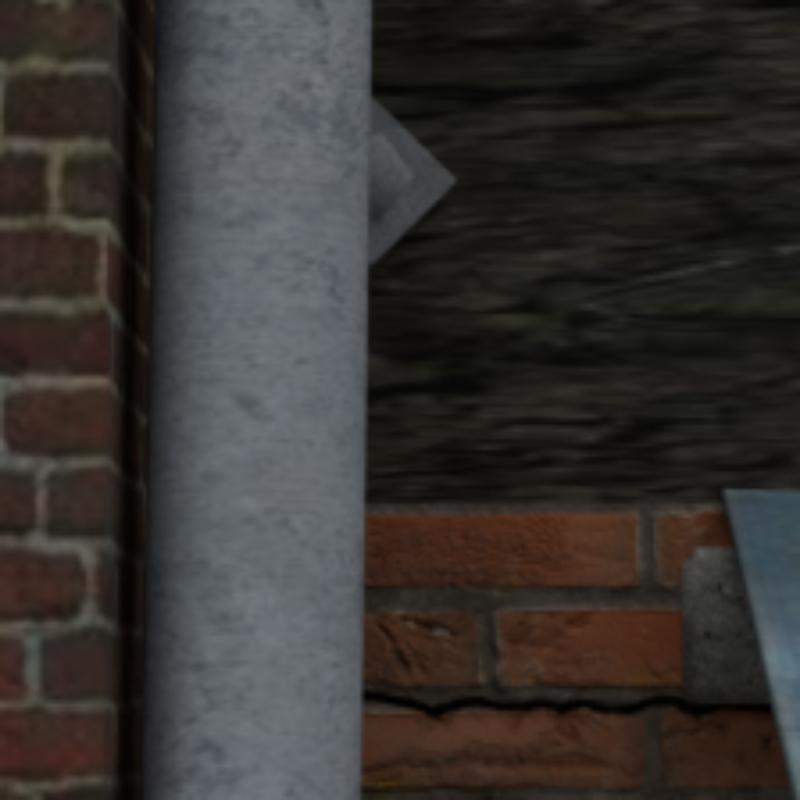pothole: (361, 693, 768, 714)
